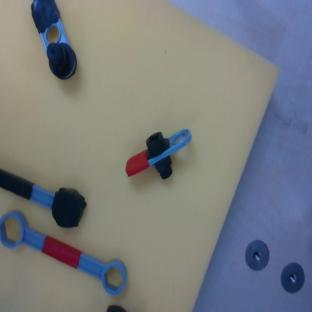part_1_good: (121, 112, 200, 196)
part_3_bad: (0, 168, 90, 232)
part_3_good: (0, 205, 134, 301)
